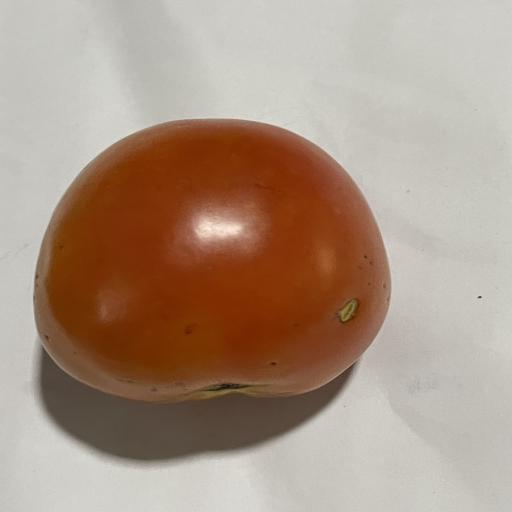ripe: (34, 119, 390, 402)
